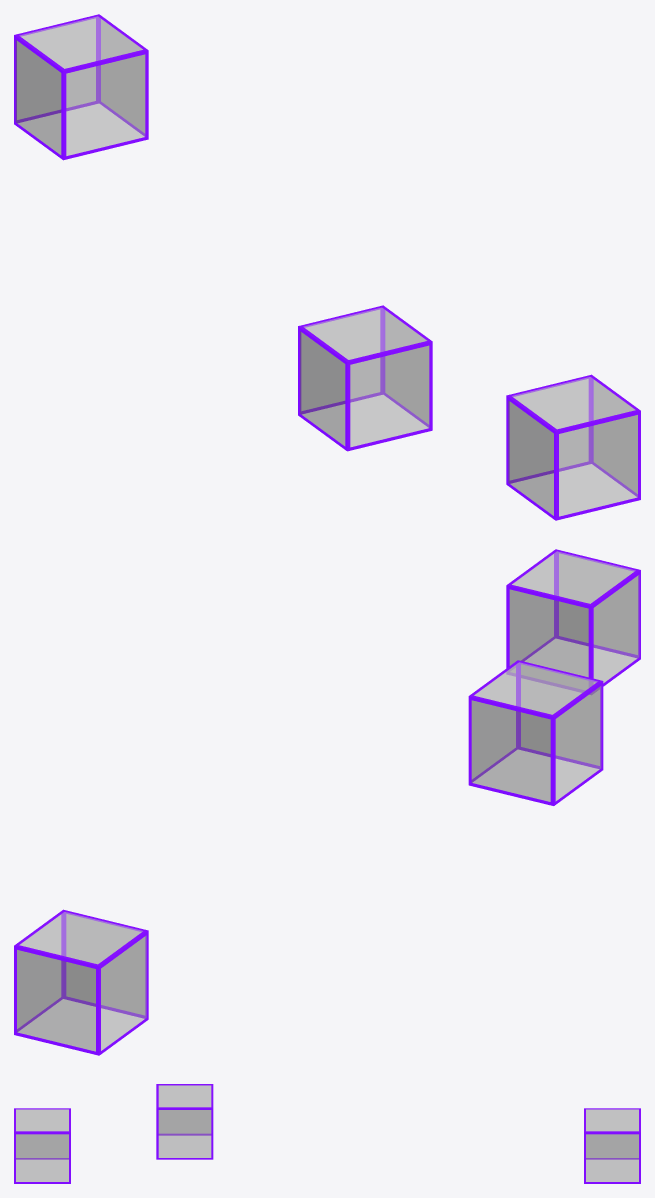
File: (5)M Wall.fbx
3 views of the same model, one above another, from view 1: azimuth 30°, elevation 25°; view 2: azimuth 150°, elevation 25°; view 3: azimuth 270°, elevation 25° (orthographic). The views are drawn at different scales.
Visible parts, largest first — view 1: Wall.002, Wall.001, Wall.005; view 2: Wall.002, Wall.005, Wall.001; view 3: Wall.002, Wall.001, Wall.005.
Part boxes in pixels (x1=…): Wall.002: x1=298, y1=305, x2=432, y2=451; Wall.001: x1=506, y1=374, x2=640, y2=520; Wall.005: x1=14, y1=14, x2=148, y2=160; Wall.002: x1=468, y1=660, x2=603, y2=805; Wall.005: x1=14, y1=909, x2=148, y2=1055; Wall.001: x1=506, y1=549, x2=640, y2=694; Wall.002: x1=156, y1=1084, x2=213, y2=1159; Wall.001: x1=14, y1=1108, x2=70, y2=1183; Wall.005: x1=584, y1=1108, x2=640, y2=1183.
Bounding box in the file's own units: 400 × 200 × 2200.
